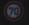Speed Limit -70-: (0, 1, 28, 24)
